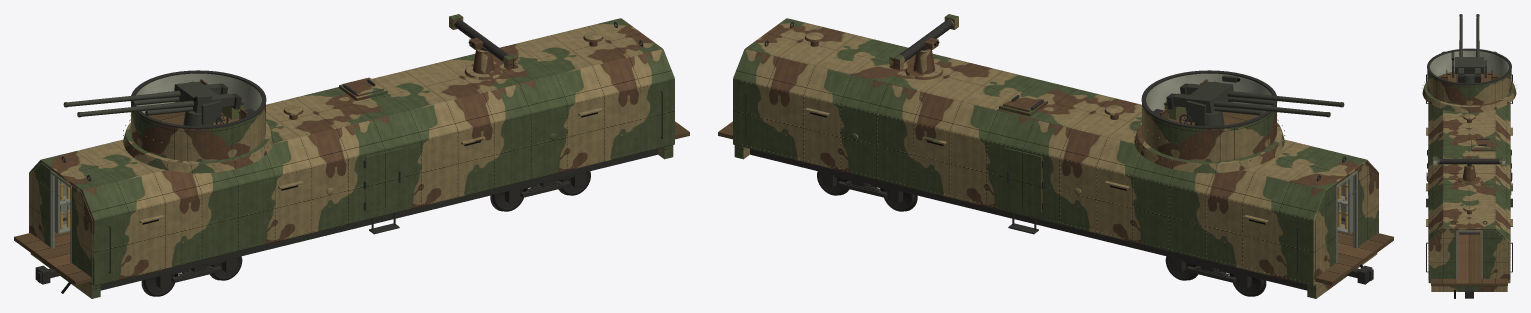
The model's file is gun_car_c.glb.
The picture shows the model from 3 angles, left to right: view 1: azimuth 30°, elevation 25°; view 2: azimuth 150°, elevation 25°; view 3: azimuth 270°, elevation 25°; orthographic projection. The views are drawn at different scales.
Visible parts, largest first — view 1: HullShell, Turret7Body, HullInterior, HullDetails, Underframe, Turret7Guns, HullRivets, Bogies, RF_Tube; view 2: HullShell, Turret7Body, HullInterior, HullDetails, Underframe, Turret7Guns, HullRivets, Bogies, RF_Tube; view 3: HullShell, Turret7Body, HullInterior, HullDetails, Turret7Guns, RF_Tube, Underframe, HullRivets.
Boxes of the visible parts, x1,y1,x2,y2 form: HullShell: (29,18,674,286); Turret7Body: (123,70,273,173); HullInterior: (14,121,689,285); HullDetails: (61,21,662,273); Underframe: (30,145,673,298); Turret7Guns: (63,81,241,117); HullRivets: (31,21,666,283); Bogies: (156,172,585,288); RF_Tube: (449,14,518,69); HullShell: (733,18,1378,286); Turret7Body: (1134,70,1284,173); HullInterior: (718,96,1393,285); HullDetails: (745,21,1346,273); Underframe: (734,145,1377,298); Turret7Guns: (1166,75,1344,117); HullRivets: (741,21,1376,283); Bogies: (822,172,1251,288); RF_Tube: (889,14,958,69); HullShell: (1428,51,1510,283); Turret7Body: (1422,48,1516,112); HullInterior: (1430,175,1508,285); HullDetails: (1426,74,1512,272); Turret7Guns: (1451,14,1483,82); RF_Tube: (1432,156,1506,166); Underframe: (1431,286,1507,298); HullRivets: (1428,103,1510,277).
Bounding box in the file's own units: 17.22 × 5.12 × 3.59.
Materials: 15 (3 with a texture image).
